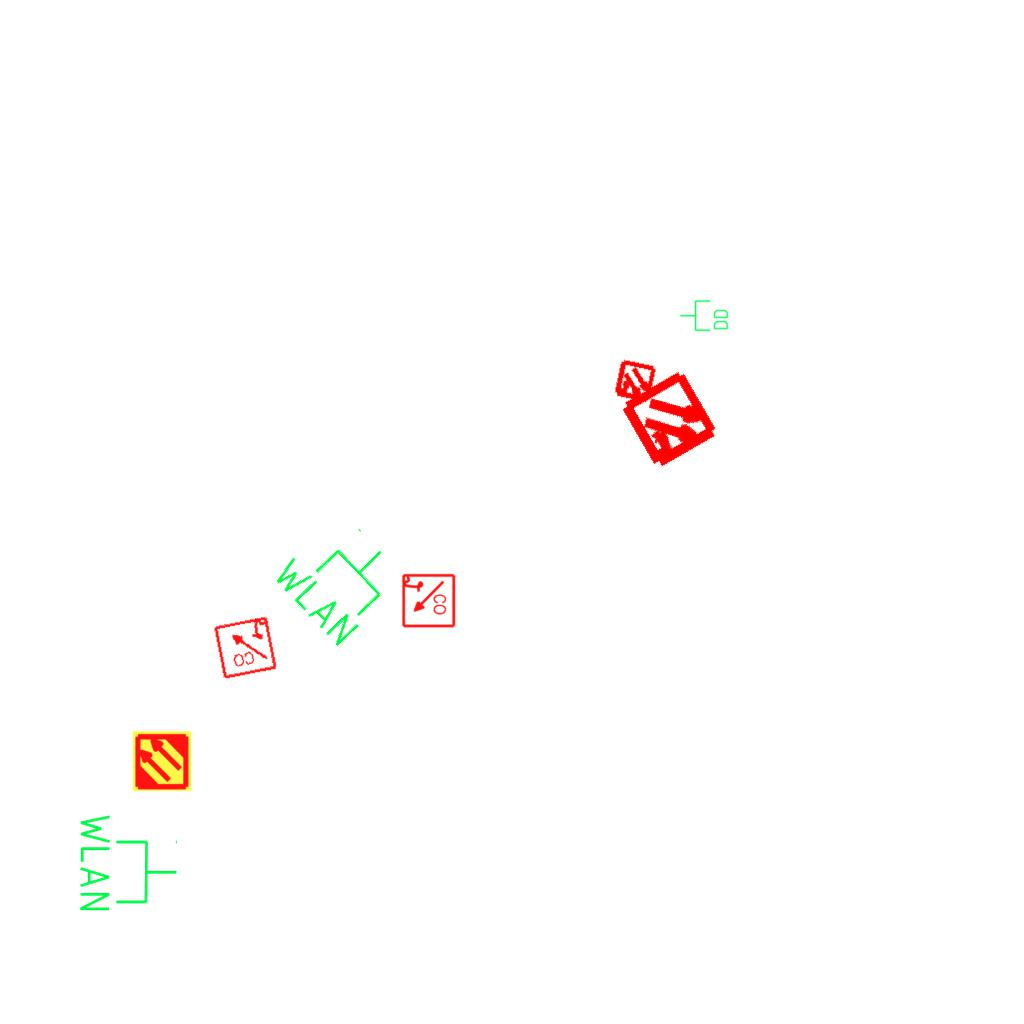ASR_Ansaugrauchmelder: (131, 730, 193, 792)
Datenanschluss_zweifach: (679, 299, 730, 333)
OT_Multisensormelder_(Kombination_RMO_WMD): (593, 344, 748, 499), (601, 348, 669, 416)
ROA_Rauchmelder_optisch_mit_Signalgeber_(Sockelsirene): (212, 614, 278, 680), (400, 573, 456, 629)
WLAN: (265, 504, 413, 653), (76, 810, 180, 915)
